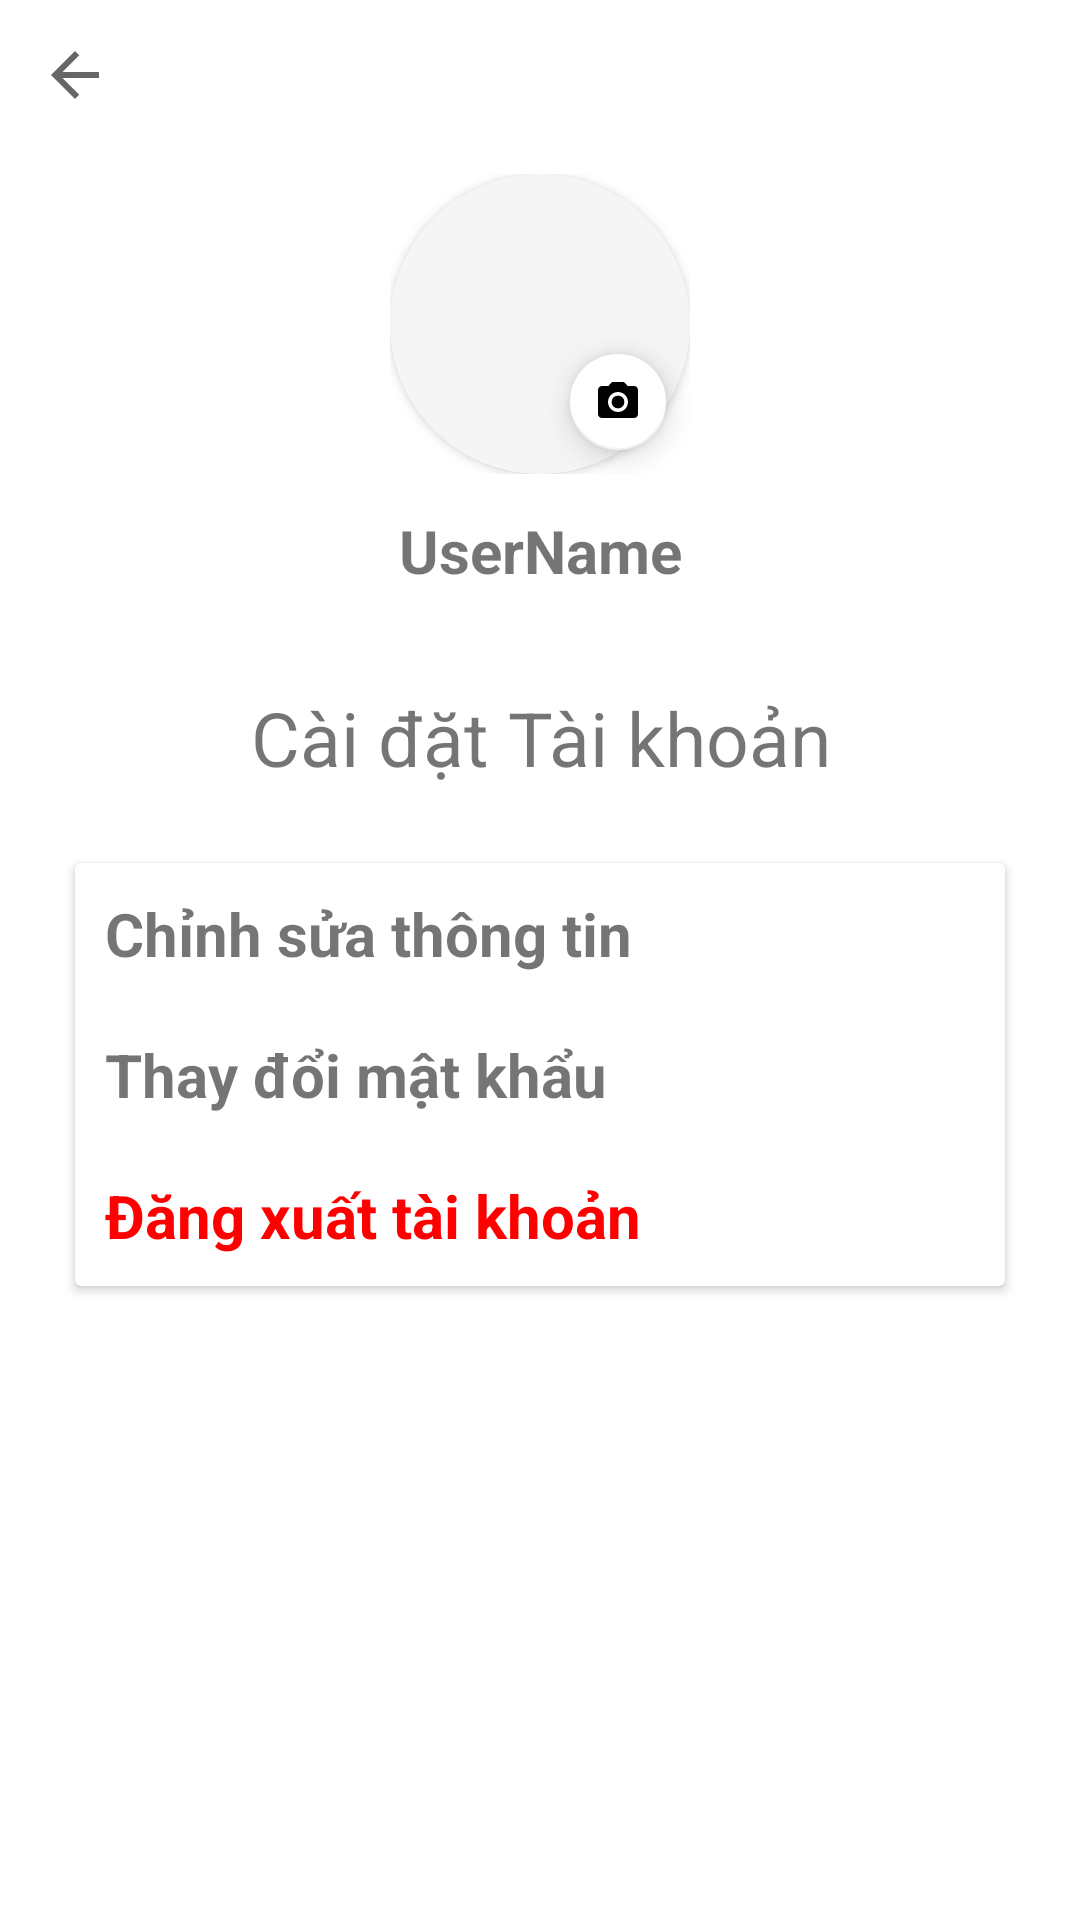

Icon bounding boxes for this 1080px x 1920px phone screenshot, format detection(x1, y1, x2, y2):
arrow back: detection(51, 51, 99, 99)
camera: detection(576, 382, 672, 460)
